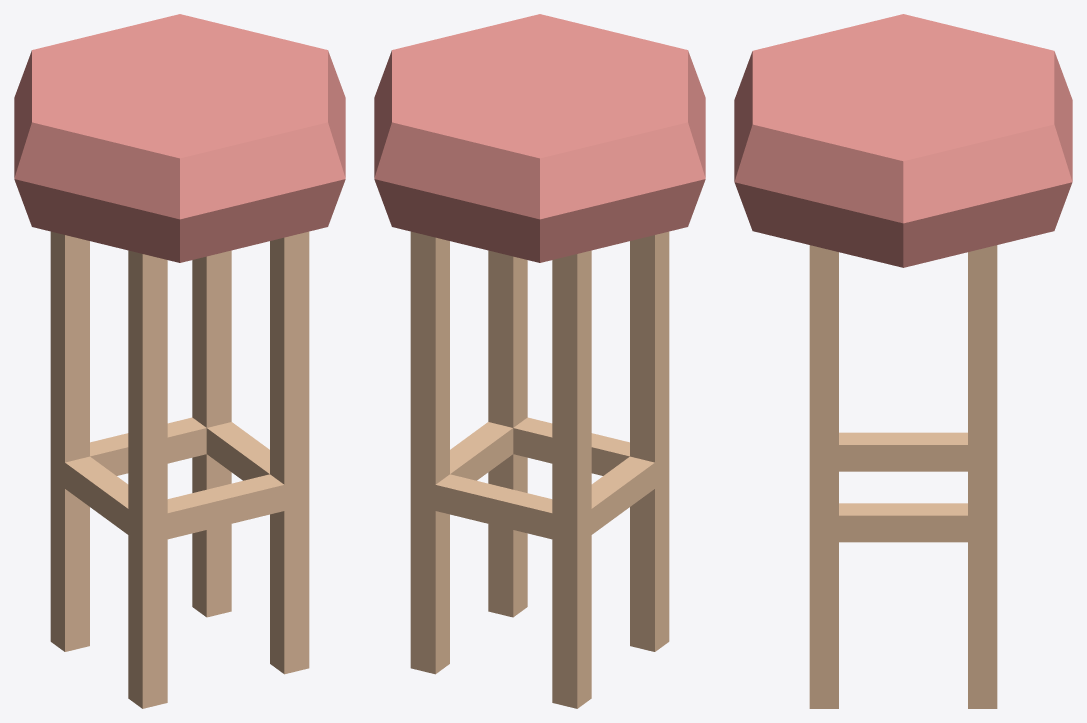
The model's file is stoolBar.gltf.
The picture shows the model from 3 angles, left to right: view 1: azimuth 30°, elevation 25°; view 2: azimuth 150°, elevation 25°; view 3: azimuth 270°, elevation 25°; orthographic projection.
Parts seen in each view (by area): view 1: stoolBar(Clone); view 2: stoolBar(Clone); view 3: stoolBar(Clone).
Boxes of the visible parts, x1,y1,x2,y2 form: stoolBar(Clone): [14, 14, 345, 708]; stoolBar(Clone): [374, 14, 705, 708]; stoolBar(Clone): [734, 14, 1072, 708].
Size of the model in its own units: 0.2654 by 0.435 by 0.2299.
